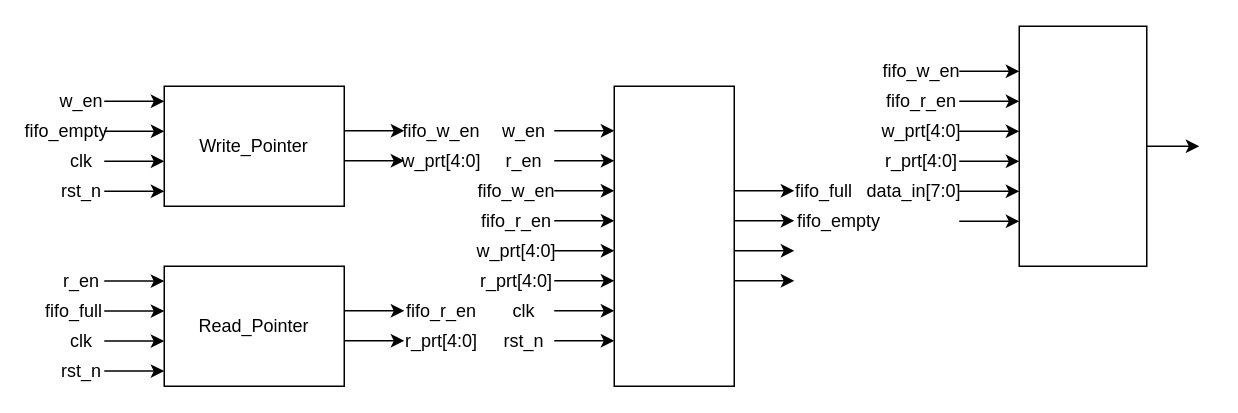
The diagram is 1238 pixels wide and 413 high, and some of its shapes have lost their labels. Each missing label, with the box of its shape:
Memoy_Array: (1018, 25, 1147, 266)
Memoy_State: (613, 85, 734, 386)
